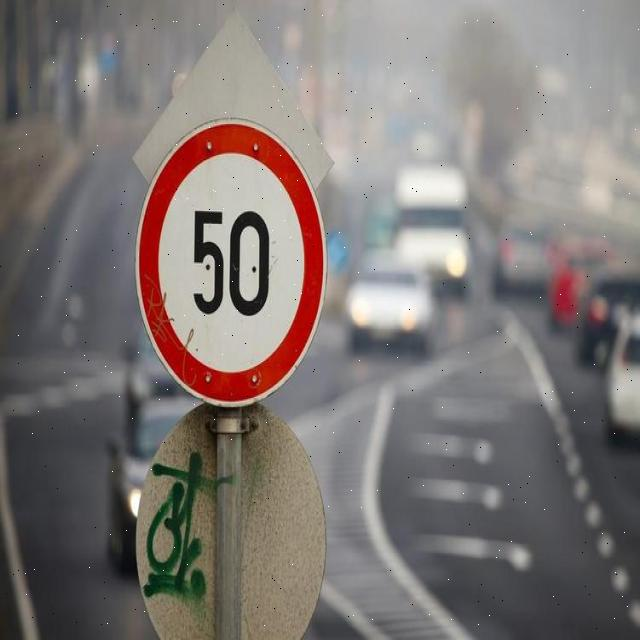speed limit 50: (132, 118, 328, 409)
